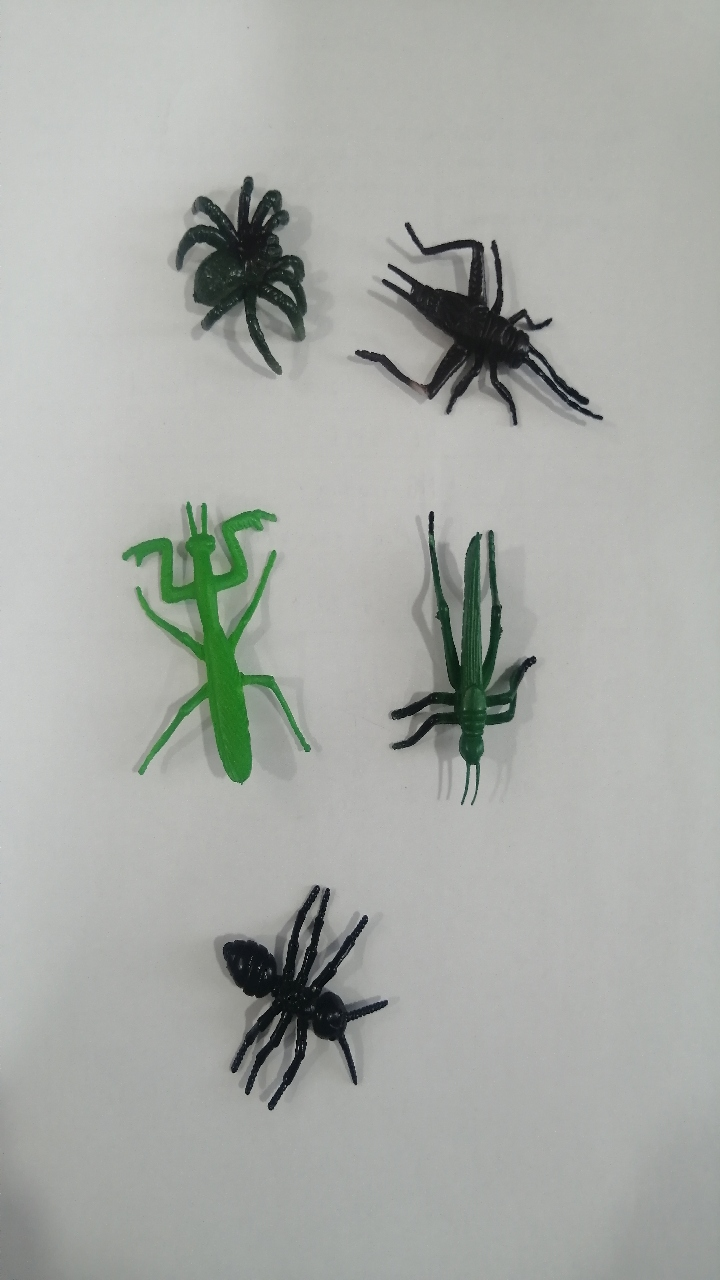intruso: (91, 485, 344, 828), (341, 182, 631, 463), (351, 474, 544, 837), (181, 851, 411, 1122), (132, 139, 328, 399)
